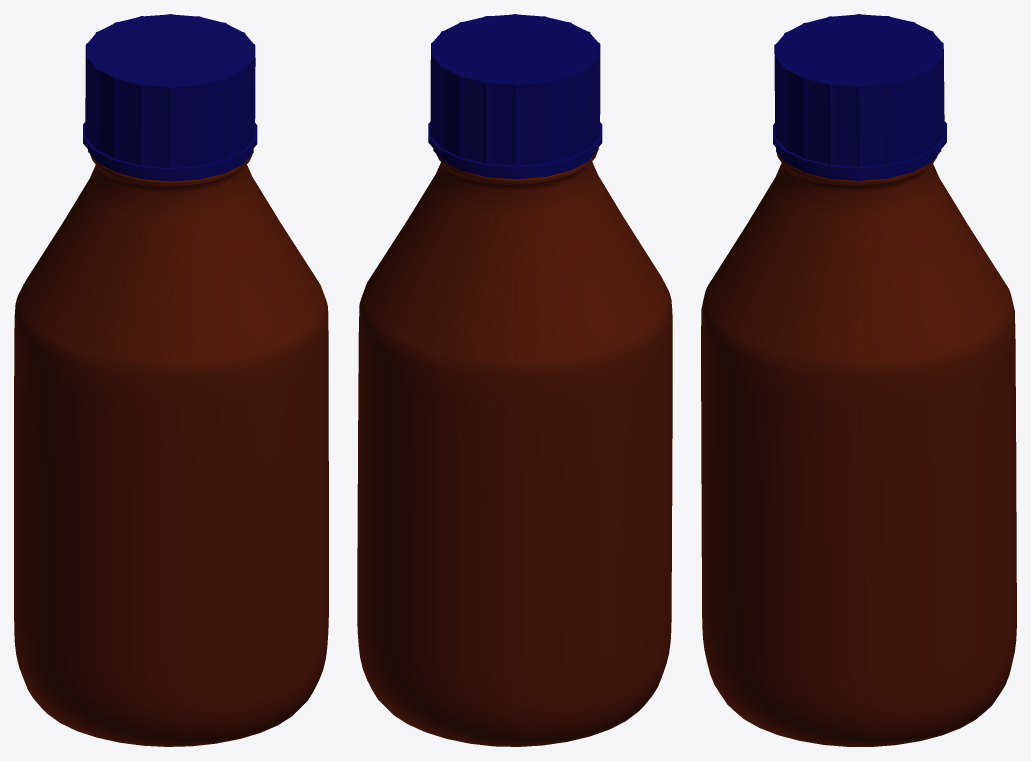
File: 丙酮试剂瓶.fbx
3 renders of one model, left to right at view 1: azimuth 30°, elevation 25°; view 2: azimuth 150°, elevation 25°; view 3: azimuth 270°, elevation 25°, orthographic.
Visible parts, largest first — view 1: Plane018, Cylinder050, Cylinder051; view 2: Plane018, Cylinder050, Cylinder051; view 3: Plane018, Cylinder050, Cylinder051.
Boxes of the visible parts, bbox=[...] form: Plane018: bbox=[14, 154, 328, 746]; Cylinder050: bbox=[83, 14, 257, 175]; Cylinder051: bbox=[88, 149, 253, 181]; Plane018: bbox=[357, 151, 672, 746]; Cylinder050: bbox=[428, 14, 602, 172]; Cylinder051: bbox=[433, 147, 598, 179]; Plane018: bbox=[701, 153, 1016, 746]; Cylinder050: bbox=[773, 14, 946, 174]; Cylinder051: bbox=[776, 148, 941, 180].
Bounding box in the file's own units: 19512 × 44032 × 19614.
